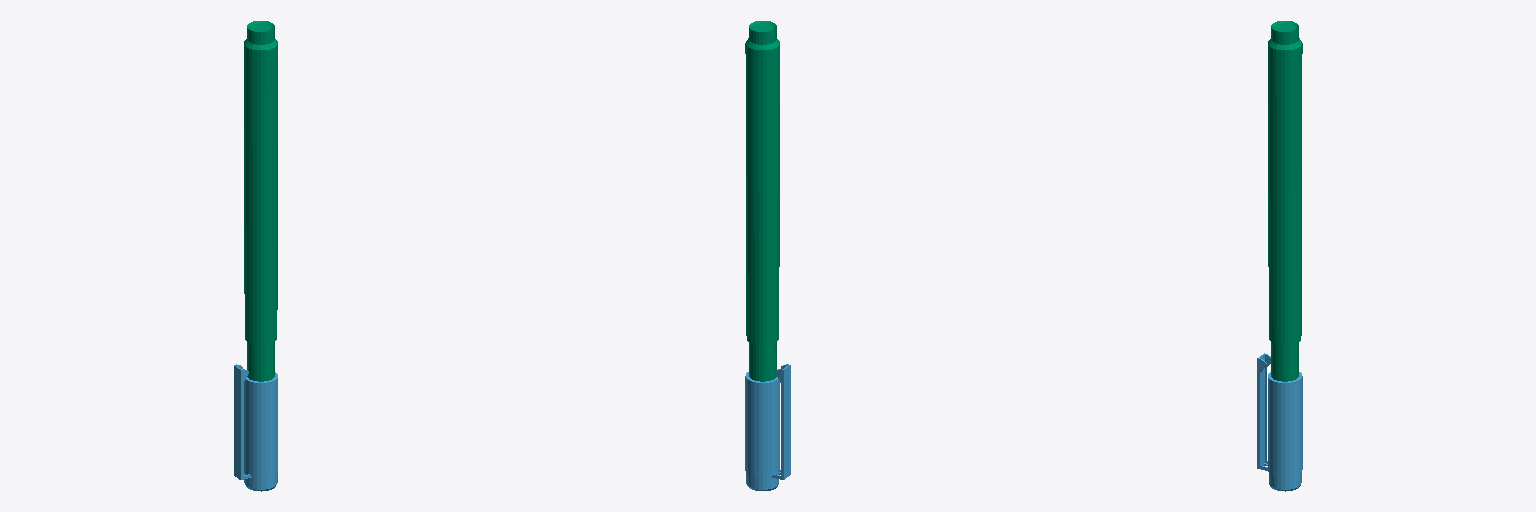
robot.urdf — partnet_2192e3ab335b70cf432c72714e700b25:
<?xml version="1.0" ?>
<robot name="partnet_2192e3ab335b70cf432c72714e700b25">
	<link name="base"/>
	<link name="link_0">
		<visual name="cap-1">
			<origin xyz="0 0 0"/>
			<geometry>
				<mesh filename="textured_objs/original-3.obj"/>
			</geometry>
		</visual>
		<visual name="cap-1">
			<origin xyz="0 0 0"/>
			<geometry>
				<mesh filename="textured_objs/original-5.obj"/>
			</geometry>
		</visual>
		<visual name="cap-1">
			<origin xyz="0 0 0"/>
			<geometry>
				<mesh filename="textured_objs/original-4.obj"/>
			</geometry>
		</visual>
		<collision>
			<origin xyz="0 0 0"/>
			<geometry>
				<mesh filename="textured_objs/original-3.obj"/>
			</geometry>
		</collision>
		<collision>
			<origin xyz="0 0 0"/>
			<geometry>
				<mesh filename="textured_objs/original-5.obj"/>
			</geometry>
		</collision>
		<collision>
			<origin xyz="0 0 0"/>
			<geometry>
				<mesh filename="textured_objs/original-4.obj"/>
			</geometry>
		</collision>
	</link>
	<joint name="joint_0" type="prismatic">
		<origin xyz="0 0 0"/>
		<axis xyz="0 -1 0"/>
		<child link="link_0"/>
		<parent link="link_1"/>
		<limit lower="-0.45199999999999996" upper="-0.2400000000000002"/>
	</joint>
	<link name="link_1">
		<visual name="base_body-2">
			<origin xyz="0 0 0"/>
			<geometry>
				<mesh filename="textured_objs/original-8.obj"/>
			</geometry>
		</visual>
		<visual name="base_body-2">
			<origin xyz="0 0 0"/>
			<geometry>
				<mesh filename="textured_objs/original-13.obj"/>
			</geometry>
		</visual>
		<visual name="base_body-2">
			<origin xyz="0 0 0"/>
			<geometry>
				<mesh filename="textured_objs/original-9.obj"/>
			</geometry>
		</visual>
		<visual name="base_body-2">
			<origin xyz="0 0 0"/>
			<geometry>
				<mesh filename="textured_objs/original-11.obj"/>
			</geometry>
		</visual>
		<visual name="base_body-2">
			<origin xyz="0 0 0"/>
			<geometry>
				<mesh filename="textured_objs/original-12.obj"/>
			</geometry>
		</visual>
		<visual name="base_body-2">
			<origin xyz="0 0 0"/>
			<geometry>
				<mesh filename="textured_objs/original-14.obj"/>
			</geometry>
		</visual>
		<collision>
			<origin xyz="0 0 0"/>
			<geometry>
				<mesh filename="textured_objs/original-8.obj"/>
			</geometry>
		</collision>
		<collision>
			<origin xyz="0 0 0"/>
			<geometry>
				<mesh filename="textured_objs/original-13.obj"/>
			</geometry>
		</collision>
		<collision>
			<origin xyz="0 0 0"/>
			<geometry>
				<mesh filename="textured_objs/original-9.obj"/>
			</geometry>
		</collision>
		<collision>
			<origin xyz="0 0 0"/>
			<geometry>
				<mesh filename="textured_objs/original-11.obj"/>
			</geometry>
		</collision>
		<collision>
			<origin xyz="0 0 0"/>
			<geometry>
				<mesh filename="textured_objs/original-12.obj"/>
			</geometry>
		</collision>
		<collision>
			<origin xyz="0 0 0"/>
			<geometry>
				<mesh filename="textured_objs/original-14.obj"/>
			</geometry>
		</collision>
	</link>
	<joint name="joint_1" type="fixed">
		<origin rpy="1.570796326794897 0 -1.570796326794897" xyz="0 0 0"/>
		<child link="link_1"/>
		<parent link="base"/>
	</joint>
</robot>

--- What the picture shows (computed from the rendered views, not written in the file) ---
The picture shows the robot from 3 angles, left to right: view 1: azimuth 30°, elevation 25°; view 2: azimuth 150°, elevation 25°; view 3: azimuth 330°, elevation 25°; orthographic projection.
Robot: partnet_2192e3ab335b70cf432c72714e700b25 — 3 links, 2 joints (1 prismatic, 1 fixed); root link base; default pose: all joints at 0 but 1 set to mid-range because 0 is outside their limits (joint_0 = -0.346).
Visible links, largest first — view 1: link_1, link_0; view 2: link_1, link_0; view 3: link_1, link_0.
Boxes of the visible links, box(x1,y1,x2,y2) form: link_1: box(244, 21, 277, 381); link_0: box(234, 364, 277, 491); link_1: box(745, 21, 779, 381); link_0: box(745, 364, 790, 490); link_1: box(1268, 21, 1302, 381); link_0: box(1257, 353, 1302, 491).
Bounding box of the posed robot: 0.1467 × 0.113 × 1.64 m (x, y, z).
9 mesh visuals loaded from 9 distinct referenced files (9 OBJ).
